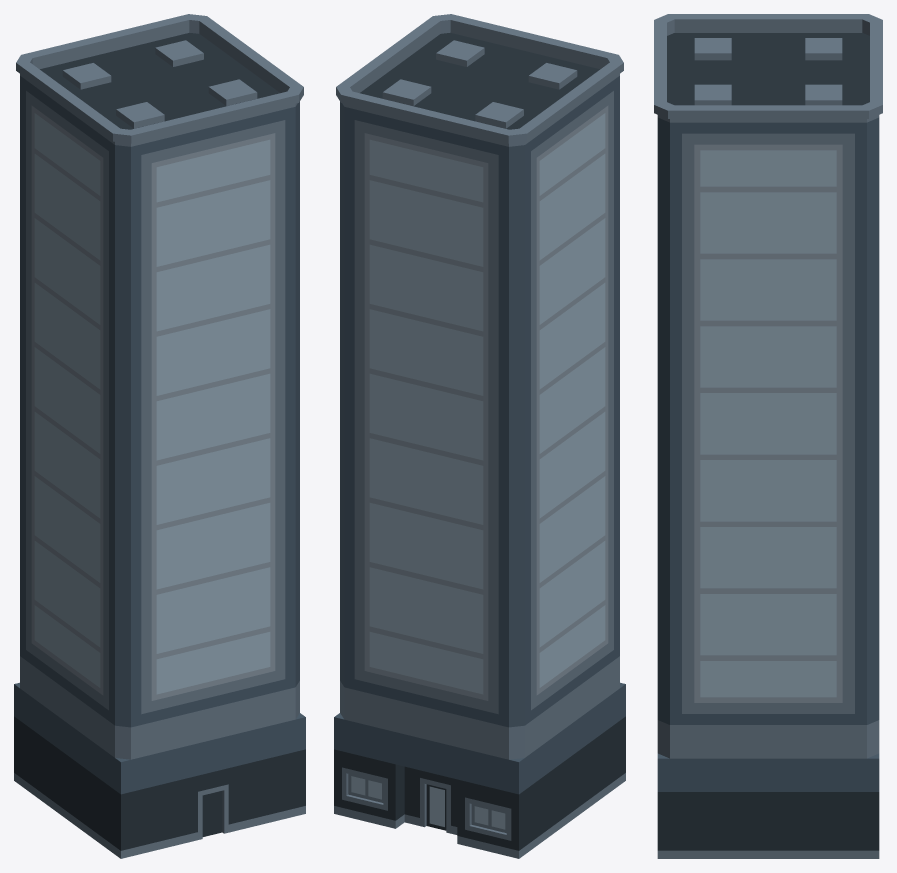
File: london-tower-b.glb
3 renders of one model, left to right at view 1: azimuth 30°, elevation 25°; view 2: azimuth 150°, elevation 25°; view 3: azimuth 270°, elevation 25°, orthographic. The views are drawn at different scales.
Parts seen in each view (by area): view 1: skyscraperB; view 2: skyscraperB; view 3: skyscraperB.
Part boxes in pixels (x1,y1,x2,y2): skyscraperB: (14, 14, 305, 858); skyscraperB: (334, 14, 625, 858); skyscraperB: (654, 14, 882, 858).
Bounding box in the file's own units: 1.24 × 4.48 × 1.24.
